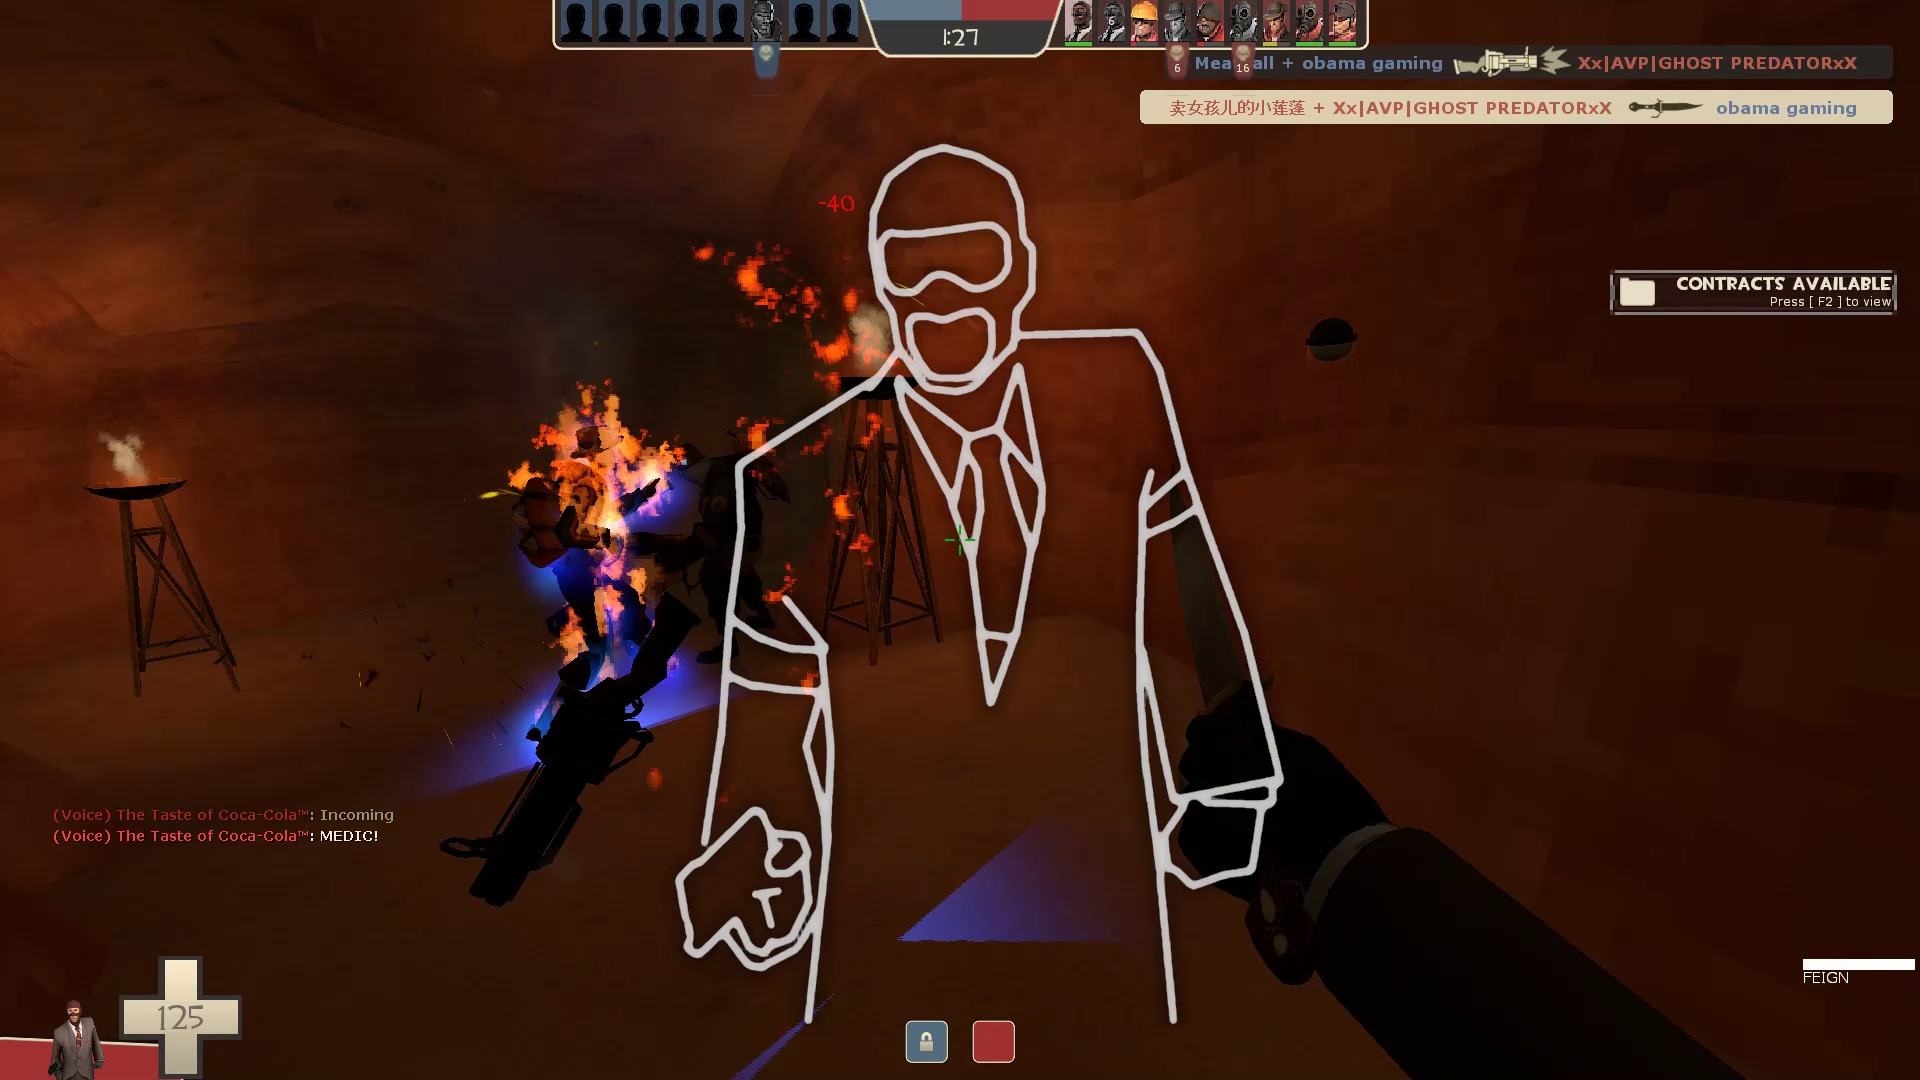blu_pyro: (622, 429, 793, 671)
blu_scout: (504, 419, 702, 756)
